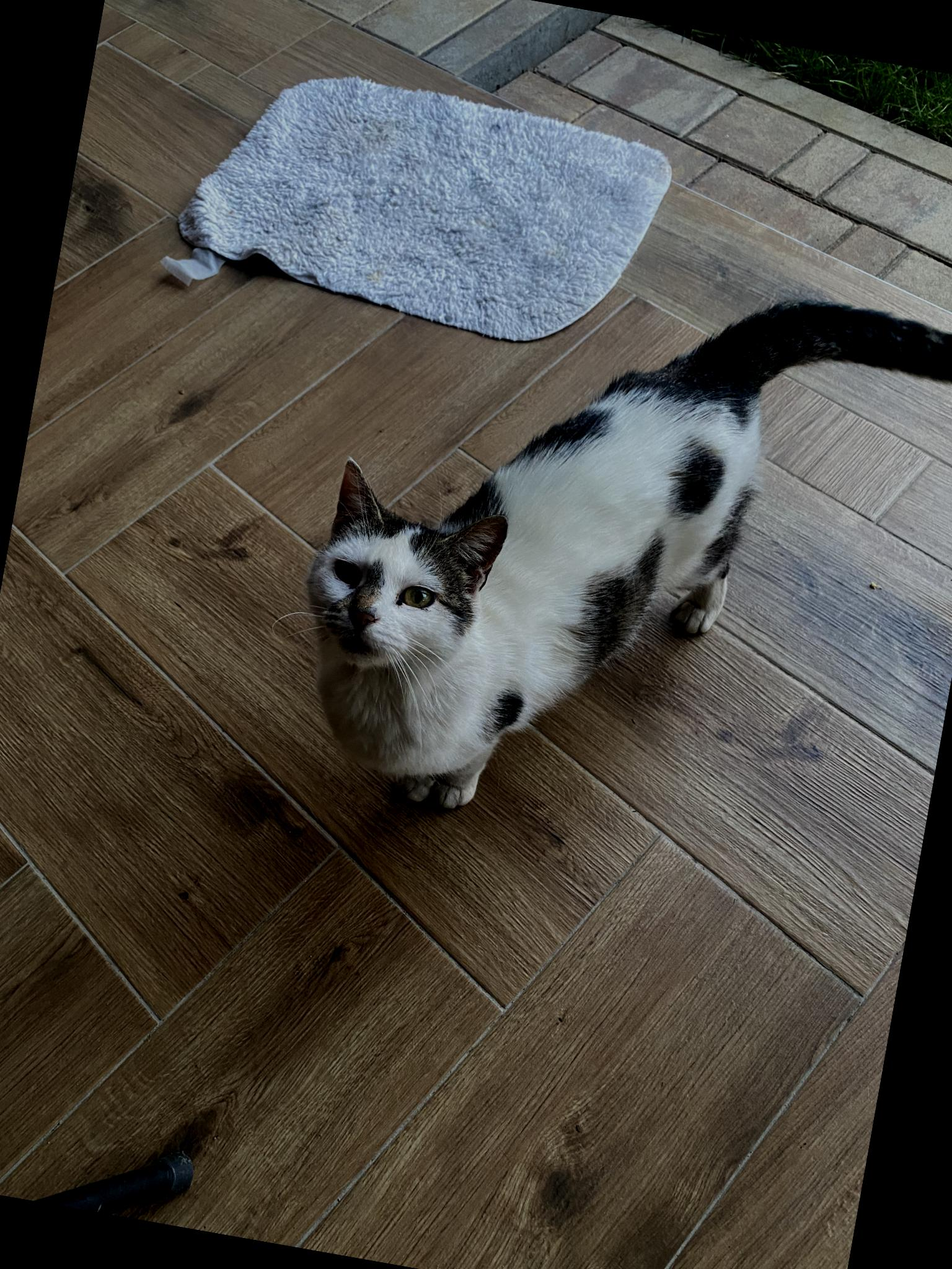macka: (273, 218, 952, 892)
